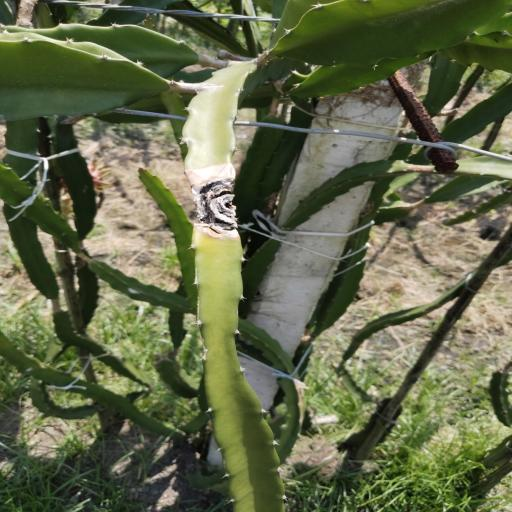stemcanker: (199, 338, 207, 343)
